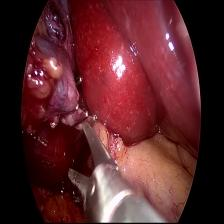Scissors: (66, 118, 128, 224)
